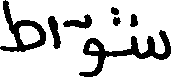ا: (45, 13, 60, 48)
ش: (111, 6, 169, 60)
ط: (0, 0, 45, 53)
و: (74, 35, 106, 75)
